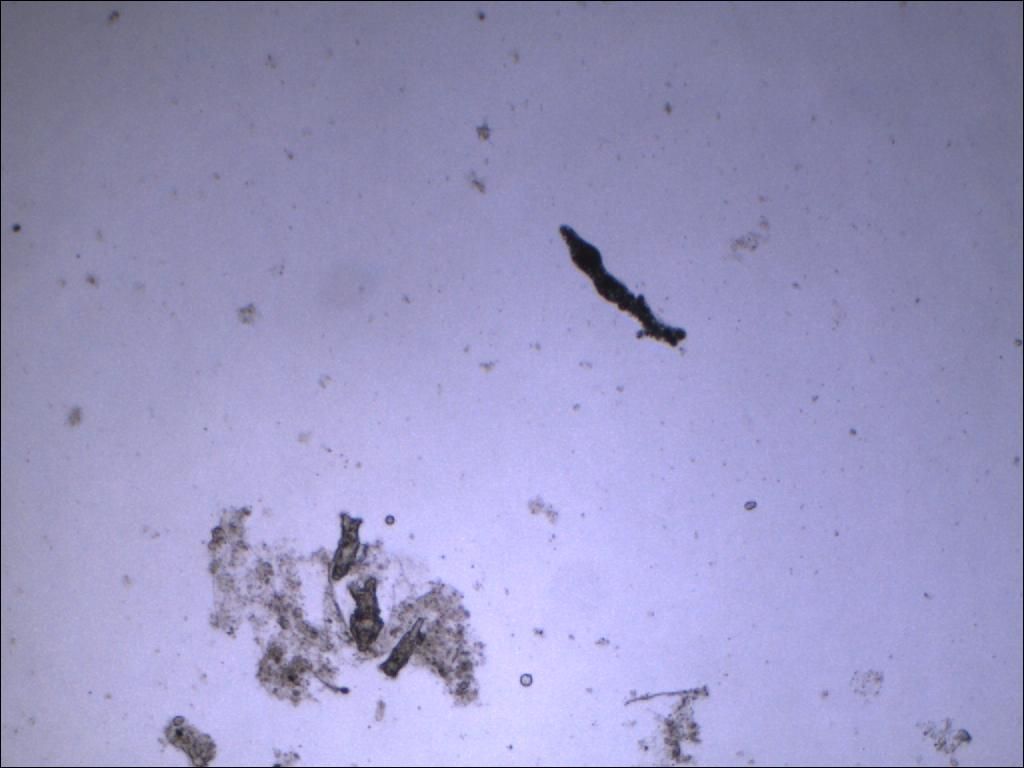amoeba: (553, 217, 692, 351)
